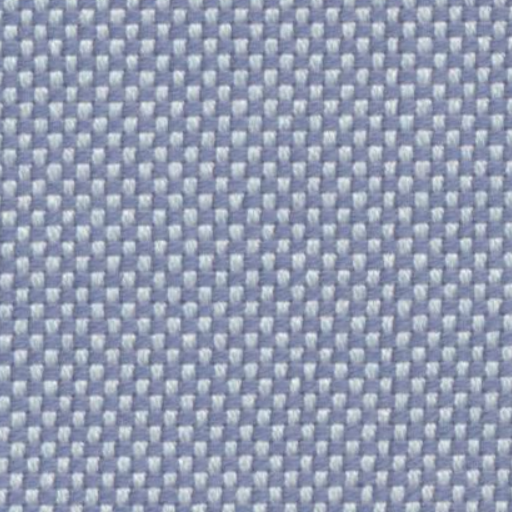TuoSha: (348, 94, 428, 506)
